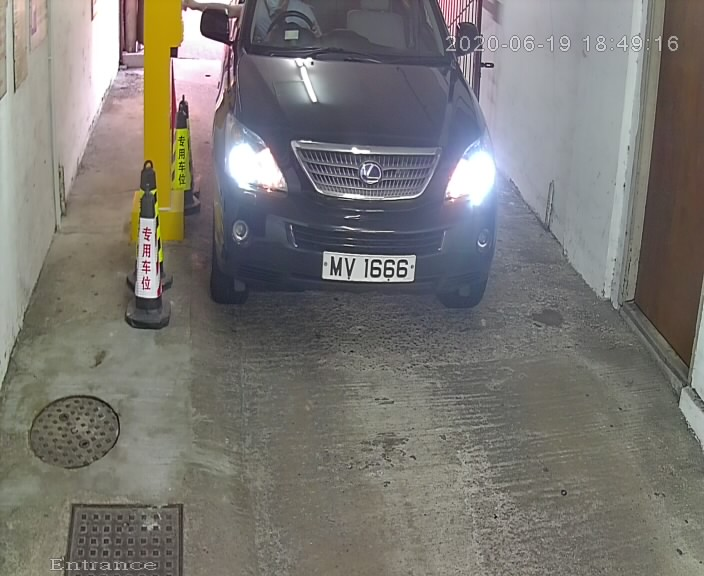privatecar: (199, 3, 508, 323)
